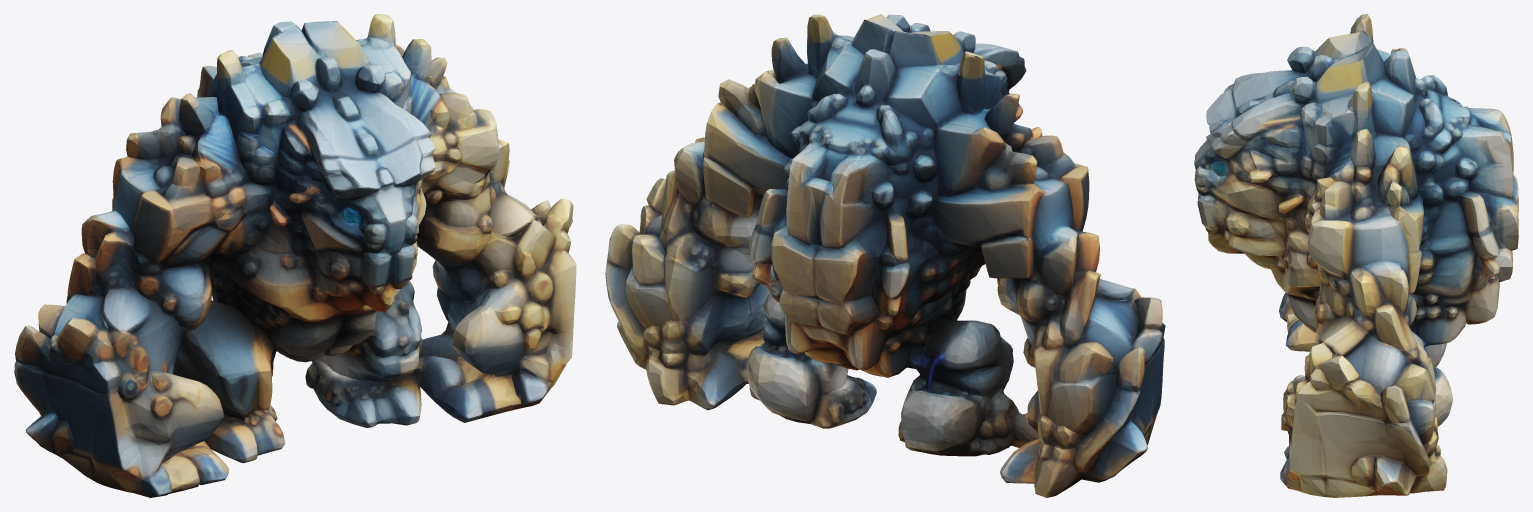
3 renders of one model, left to right at view 1: azimuth 30°, elevation 25°; view 2: azimuth 150°, elevation 25°; view 3: azimuth 270°, elevation 25°, orthographic. The views are drawn at different scales.
Parts seen in each view (by area): view 1: world; view 2: world; view 3: world.
Boxes of the visible parts, x1,y1,x2,y2 form: world: [14, 14, 576, 497]; world: [605, 14, 1165, 497]; world: [1194, 14, 1518, 497].
Size of the model in its own units: 1 by 0.7154 by 0.5767.
1 material, 1 textured.
